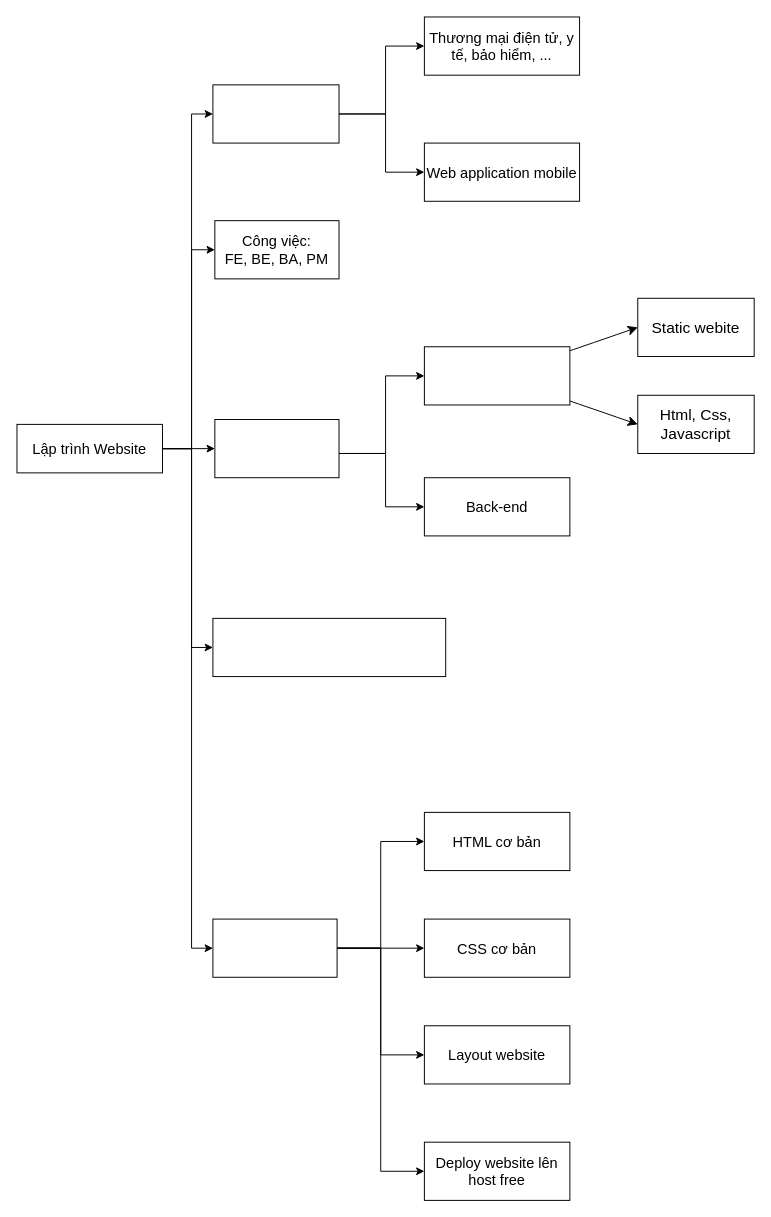
Image size: 771x1217. Some labels were removed from this diagram. The shapes that lost their labels are listed below. From the top down, each one's box as (x1, y1, x2, y2) in pixels, then its label:
(212, 84, 339, 143): Ứng dụng
(423, 346, 570, 405): Front-end
(214, 419, 339, 478): Thành phầm lập trình Web
(212, 617, 446, 677): Cài đặt môi trường VS code và các thư viện phụ thuộc
(212, 918, 337, 977): Nội dung
